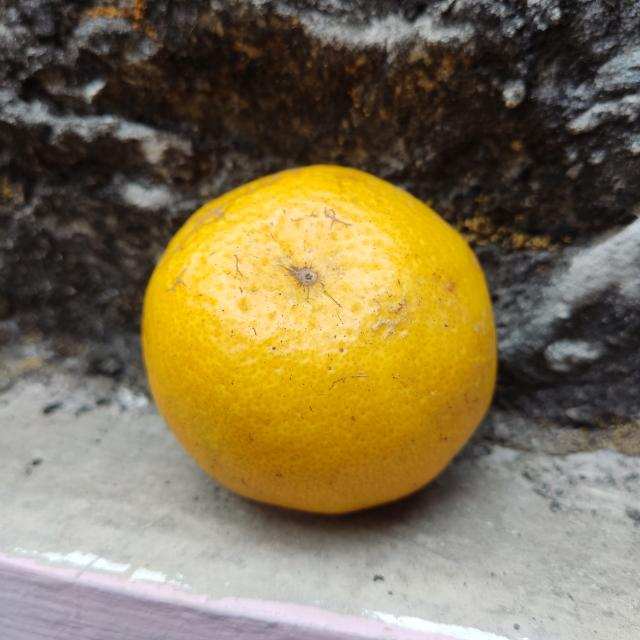orange: (138, 159, 500, 516)
